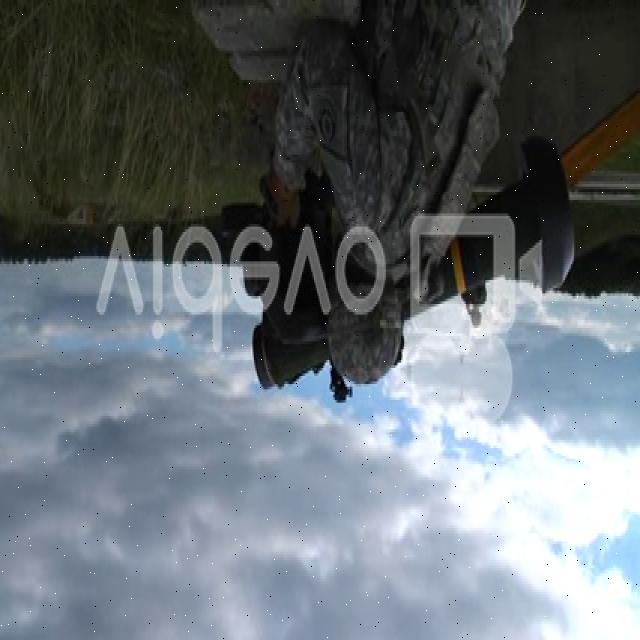bazooka: (248, 135, 579, 400)
